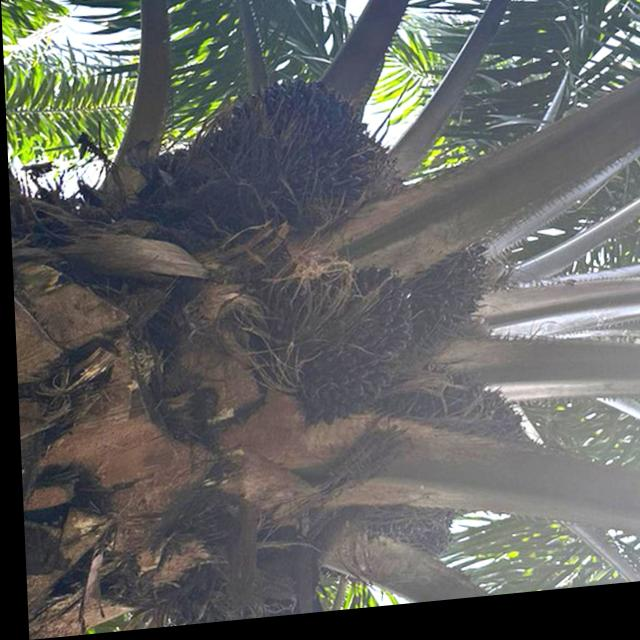almost: (257, 267, 424, 428)
